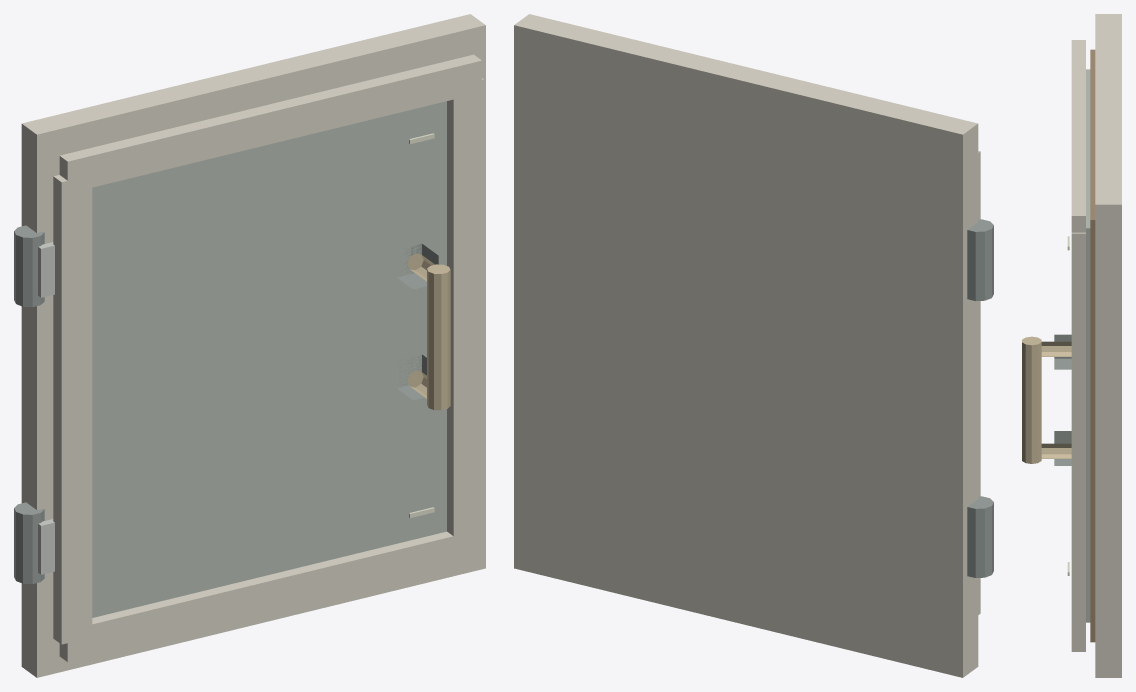
File: wall_cabinet_door_left.glb
3 renders of one model, left to right at view 1: azimuth 30°, elevation 25°; view 2: azimuth 150°, elevation 25°; view 3: azimuth 270°, elevation 25°, orthographic. The views are drawn at different scales.
Parts seen in each view (by area): view 1: wallleftCupboardDoor; view 2: wallleftCupboardDoor; view 3: wallleftCupboardDoor.
Part boxes in pixels (left/top/right/bottom): wallleftCupboardDoor: left=14, top=14, right=485, bottom=677; wallleftCupboardDoor: left=514, top=14, right=993, bottom=677; wallleftCupboardDoor: left=1022, top=14, right=1121, bottom=677.
Size of the model in its own units: 0.458 by 0.51 by 0.0975.
